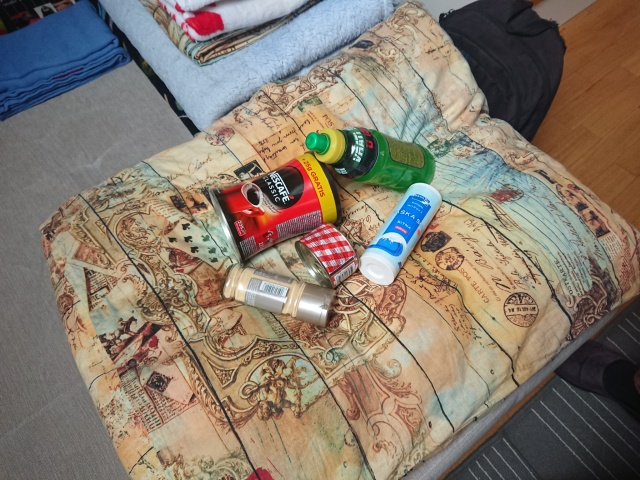Kotanyi Garlic Granules 70g: (217, 261, 339, 329)
Nescafe Classic 225g: (207, 148, 344, 266)
Podravka Luncheon Meat 150g: (293, 220, 363, 291)
Solana Pag Fine Sea Salt 250g: (356, 180, 445, 287)
Vindi Iso Sport Lemon-Grapefruit 500mL: (302, 124, 437, 196)
